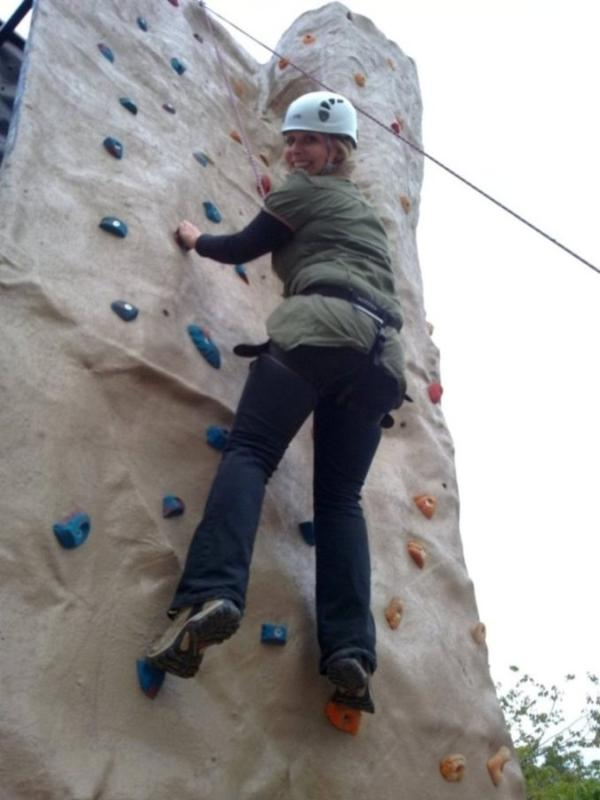person: (146, 86, 408, 715)
